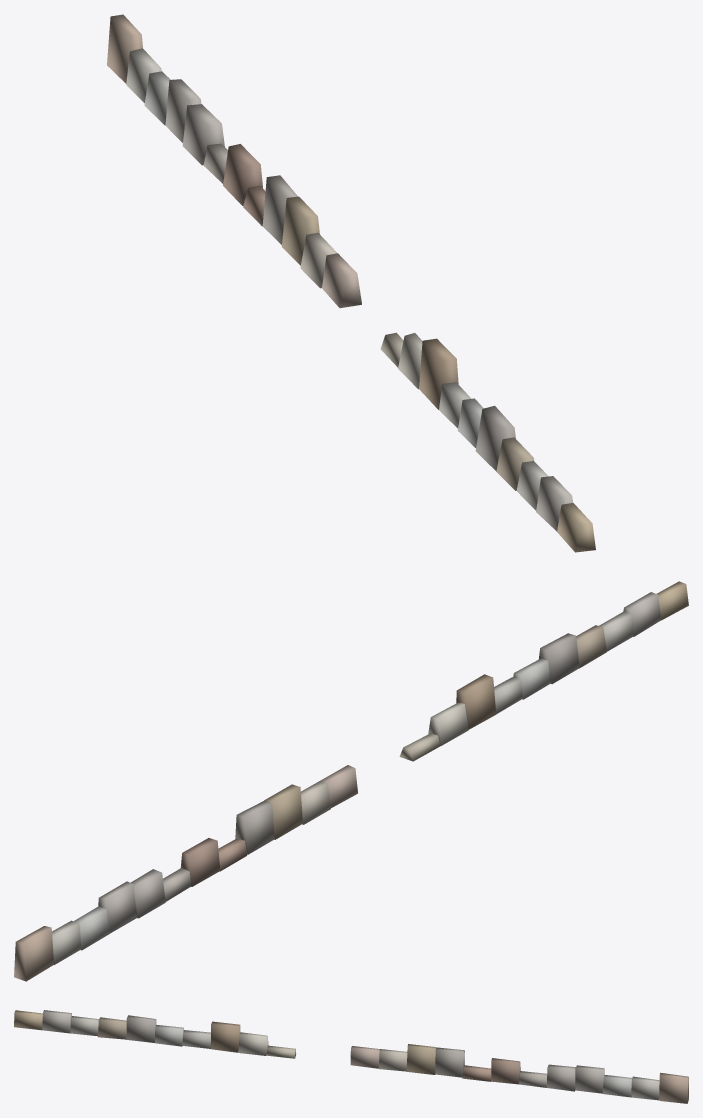
File: farm_2_21_far.glb
3 renders of one model, top to bottom at view 1: azimuth 30°, elevation 25°; view 2: azimuth 150°, elevation 25°; view 3: azimuth 270°, elevation 25°, orthographic. The views are drawn at different scales.
Visible parts, largest first — view 1: geometry_0; view 2: geometry_0; view 3: geometry_0.
Part boxes in pixels (x1,y1,x2,y2): geometry_0: [107, 14, 595, 552]; geometry_0: [14, 581, 688, 981]; geometry_0: [14, 1010, 688, 1103].
Size of the model in its own units: 7.17 by 2.72 by 37.8.
